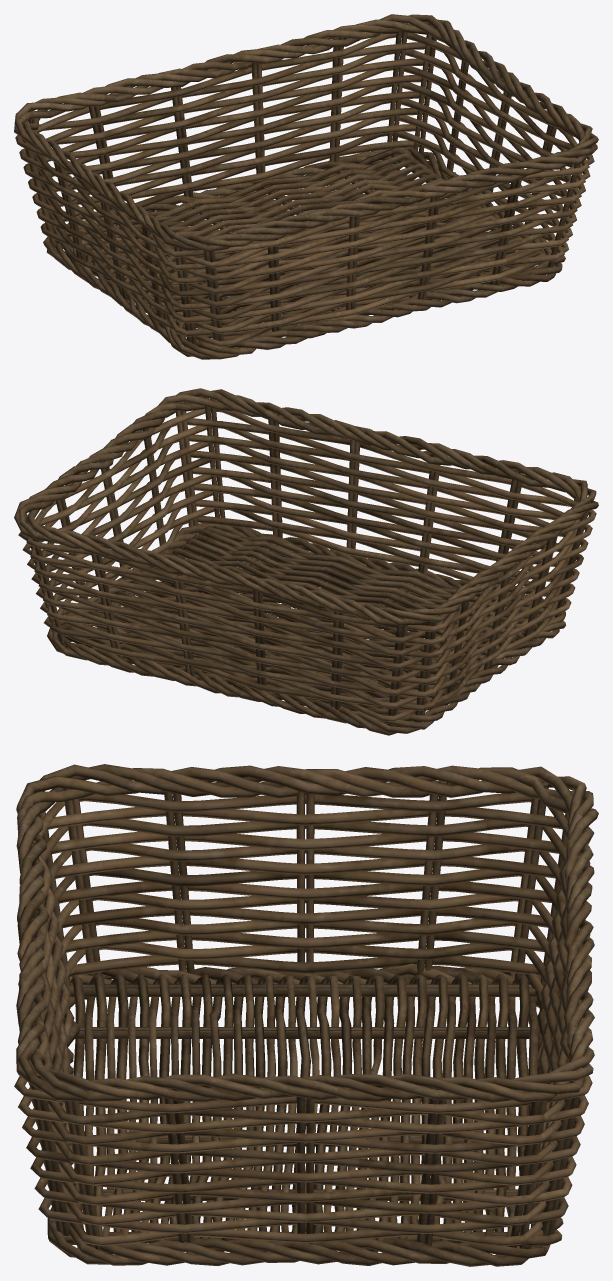
The model's file is wicker_basket_01.glb.
The picture shows the model from 3 angles, top to bottom: view 1: azimuth 30°, elevation 25°; view 2: azimuth 150°, elevation 25°; view 3: azimuth 270°, elevation 25°; orthographic projection. The views are drawn at different scales.
Visible parts, largest first — view 1: wicker_basket_01; view 2: wicker_basket_01; view 3: wicker_basket_01.
Part boxes in pixels (left/top/right/bottom): wicker_basket_01: left=14, top=14, right=598, bottom=359; wicker_basket_01: left=14, top=388, right=598, bottom=735; wicker_basket_01: left=14, top=764, right=598, bottom=1266.
Size of the model in its own units: 0.3832 by 0.1174 by 0.295.
1 material, 1 textured.
